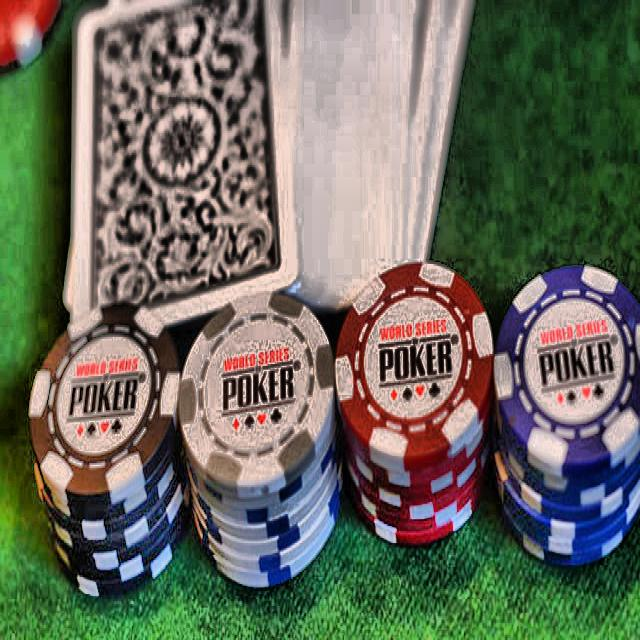Chip: (22, 285, 189, 619), (491, 248, 640, 594), (174, 300, 346, 594), (332, 262, 496, 557)
